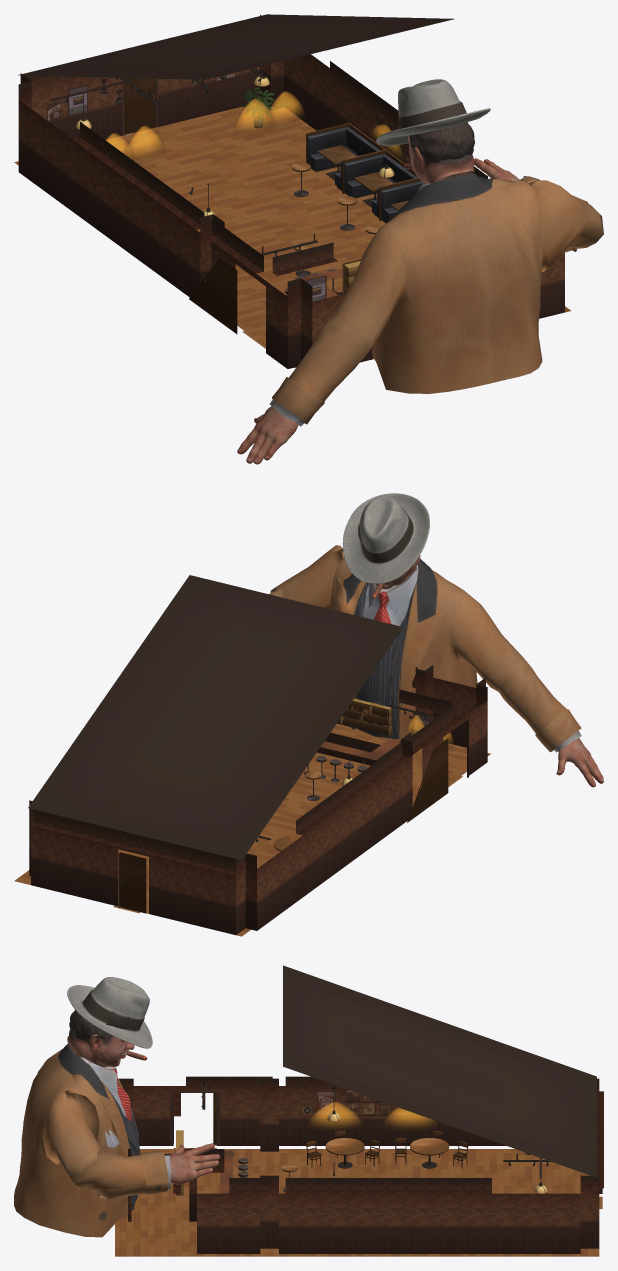
File: level2.glb
3 renders of one model, top to bottom at view 1: azimuth 30°, elevation 25°; view 2: azimuth 150°, elevation 25°; view 3: azimuth 270°, elevation 25°, orthographic. The views are drawn at different scales.
Parts seen in each view (by area): view 1: RegularCoat_Al_Capone_Suit_0, Object_49, Object_48, Object_45, Object_43, Object_46, hat_Al_Capone_Hat_0, Object_51, RegularCoat_Al_Capone_Head_0, hair_Al_Capone_Hair_0, __1, Object_47; view 2: Object_48, Object_49, RegularCoat_Al_Capone_Suit_0, Object_43, hat_Al_Capone_Hat_0, Object_45, Object_46, RegularCoat_Al_Capone_Head_0, Object_44; view 3: Object_48, Object_49, RegularCoat_Al_Capone_Suit_0, Object_45, Object_43, Object_46, hat_Al_Capone_Hat_0, Object_51, __1, RegularCoat_Al_Capone_Head_0, hair_Al_Capone_Hair_0.
Part boxes in pixels (x1,y1,x2,y2): RegularCoat_Al_Capone_Suit_0: [270, 172, 603, 426]; Object_49: [18, 54, 564, 368]; Object_48: [18, 14, 454, 334]; Object_45: [14, 104, 570, 368]; Object_43: [18, 61, 487, 275]; Object_46: [18, 15, 312, 368]; hat_Al_Capone_Hat_0: [376, 79, 490, 145]; Object_51: [105, 91, 403, 161]; RegularCoat_Al_Capone_Head_0: [237, 158, 519, 464]; hair_Al_Capone_Hair_0: [409, 122, 474, 177]; __1: [408, 122, 474, 183]; Object_47: [243, 87, 276, 128]; Object_48: [28, 575, 448, 913]; Object_49: [31, 666, 487, 935]; RegularCoat_Al_Capone_Suit_0: [268, 545, 581, 752]; Object_43: [29, 689, 459, 874]; hat_Al_Capone_Hat_0: [342, 493, 429, 583]; Object_45: [14, 723, 491, 936]; Object_46: [29, 665, 487, 934]; RegularCoat_Al_Capone_Head_0: [556, 738, 603, 787]; Object_44: [338, 703, 387, 735]; Object_48: [173, 965, 599, 1195]; Object_49: [133, 1086, 580, 1253]; RegularCoat_Al_Capone_Suit_0: [14, 1044, 170, 1237]; Object_45: [115, 1148, 602, 1256]; Object_43: [173, 1076, 603, 1193]; Object_46: [118, 1078, 602, 1248]; hat_Al_Capone_Hat_0: [67, 977, 152, 1048]; Object_51: [308, 1101, 437, 1130]; __1: [67, 1001, 134, 1066]; RegularCoat_Al_Capone_Head_0: [169, 1143, 220, 1184]; hair_Al_Capone_Hair_0: [69, 1010, 113, 1046].
Bounding box in the file's own units: 68.47 × 52.59 × 112.
Materials: 13 (13 with a texture image).
